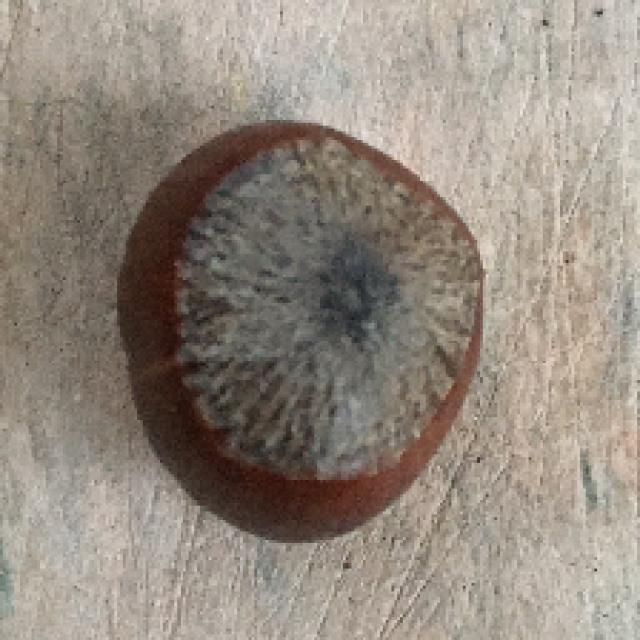damagedHazelnut: (115, 118, 488, 541)
